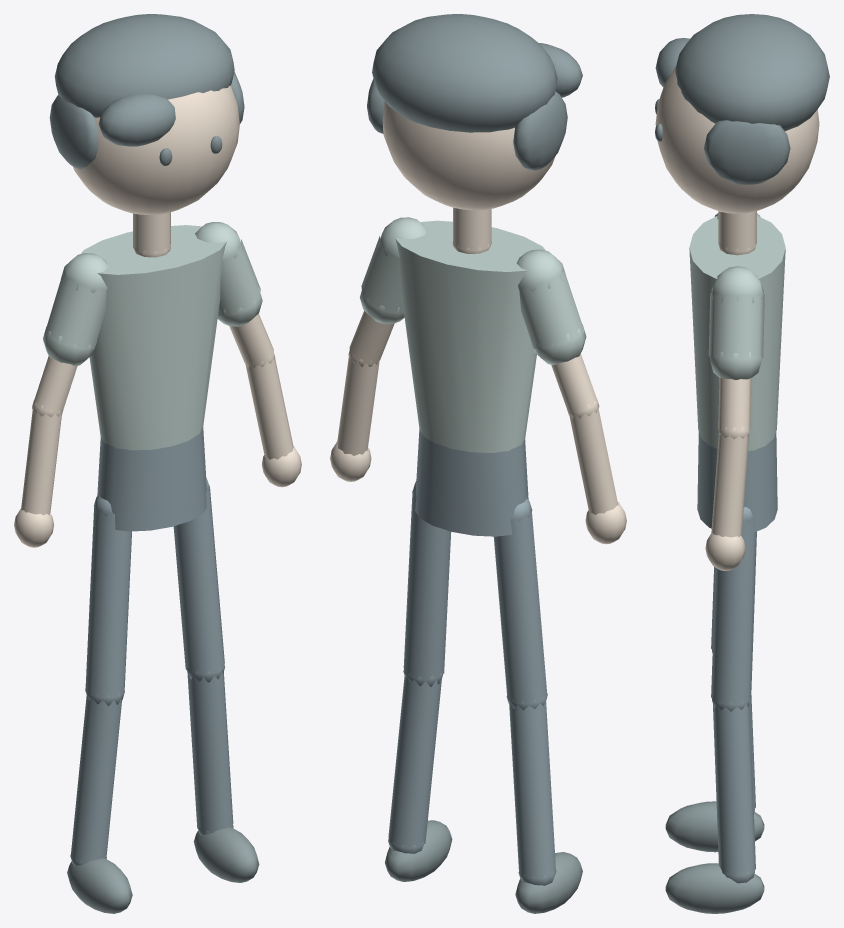
Rendered from avatar-boy.glb.
3 views of the same model, side by side, from view 1: azimuth 30°, elevation 25°; view 2: azimuth 150°, elevation 25°; view 3: azimuth 270°, elevation 25° (orthographic). The views are drawn at different scales.
Visible parts, largest first — view 1: boy; view 2: boy; view 3: boy.
Boxes of the visible parts, x1,y1,x2,y2 form: boy: [14, 14, 301, 913]; boy: [330, 14, 626, 913]; boy: [655, 14, 829, 913].
Bounding box in the file's own units: 0.406 × 1.17 × 0.2177.
